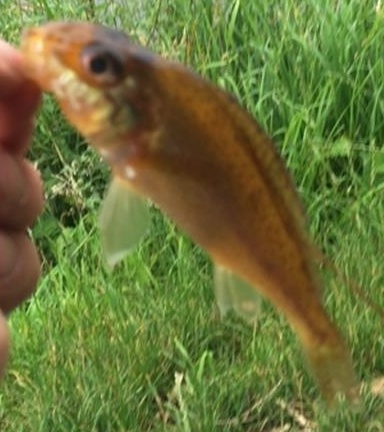Gymnocephalus cernuus: (20, 20, 364, 412)
